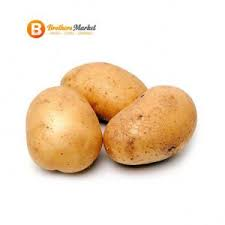potato: (109, 77, 198, 174), (23, 85, 99, 174), (62, 49, 153, 122)
